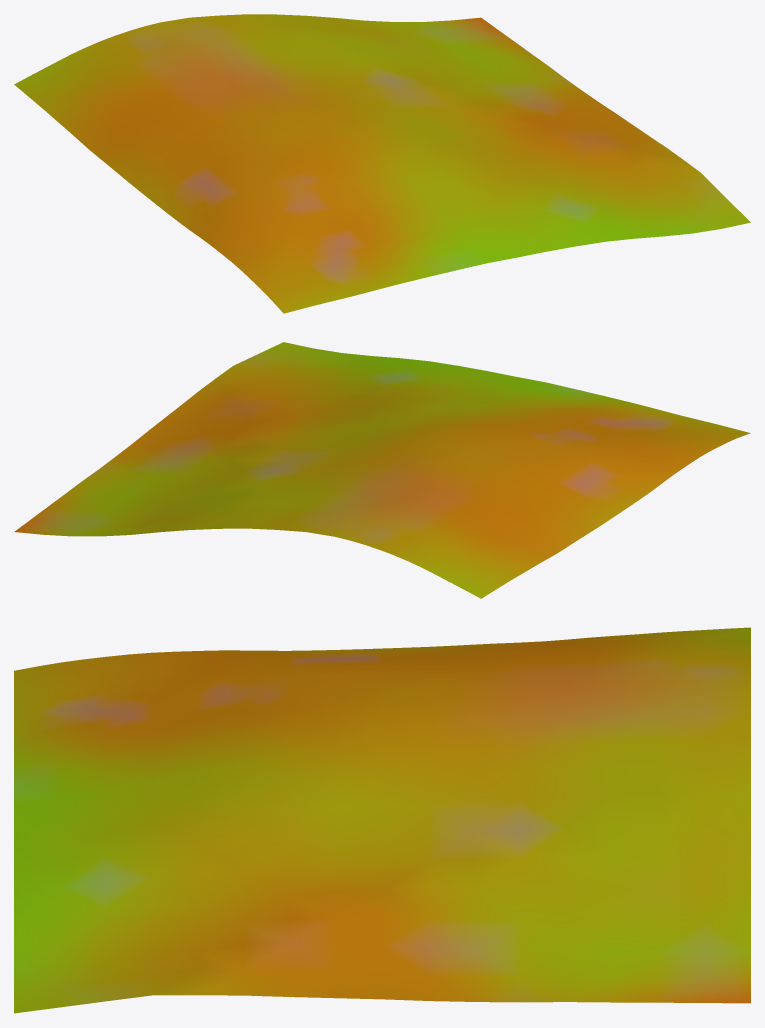
Rendered from SM_BM_BT_Terrain_7_3.glb.
3 views of the same model, one above another, from view 1: azimuth 30°, elevation 25°; view 2: azimuth 150°, elevation 25°; view 3: azimuth 270°, elevation 25° (orthographic). The views are drawn at different scales.
Parts seen in each view (by area): view 1: SM_BM_BT_Terrain_7_3; view 2: SM_BM_BT_Terrain_7_3; view 3: SM_BM_BT_Terrain_7_3.
Boxes of the visible parts, <box> form: SM_BM_BT_Terrain_7_3: <box>14,14,750,313</box>; SM_BM_BT_Terrain_7_3: <box>14,342,750,598</box>; SM_BM_BT_Terrain_7_3: <box>14,627,750,1013</box>.
Size of the model in its own units: 256 by 42.42 by 256.
